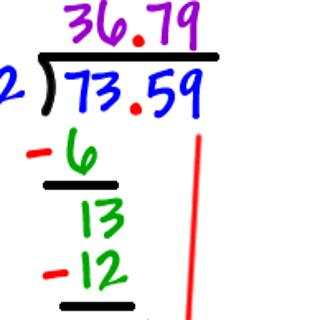.: (124, 100, 146, 121), (129, 30, 147, 49)
1: (75, 198, 95, 242), (76, 249, 94, 297)
2: (93, 248, 130, 294)
3: (92, 191, 130, 245), (57, 1, 95, 46), (91, 69, 123, 117)
5: (144, 66, 179, 121)
6: (64, 124, 100, 178), (95, 1, 126, 49)
7: (61, 66, 93, 119), (144, 1, 173, 50)
9: (177, 68, 207, 121), (174, 1, 202, 50)
